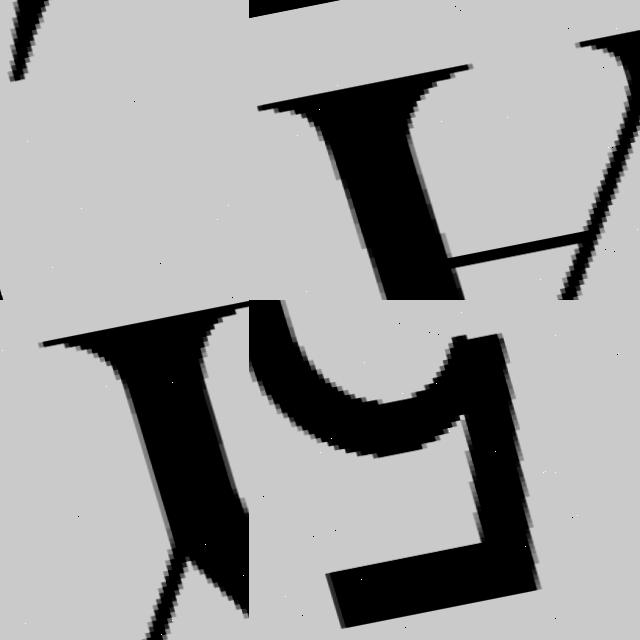5: (249, 300, 591, 640)
A: (249, 2, 640, 300)
L: (0, 0, 249, 300)
Y: (0, 300, 249, 640)
